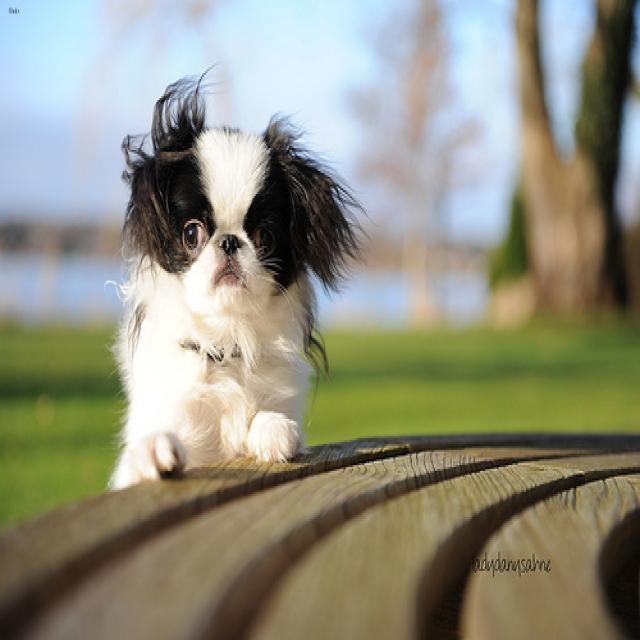dog-japanese_chin: (99, 62, 376, 505)
